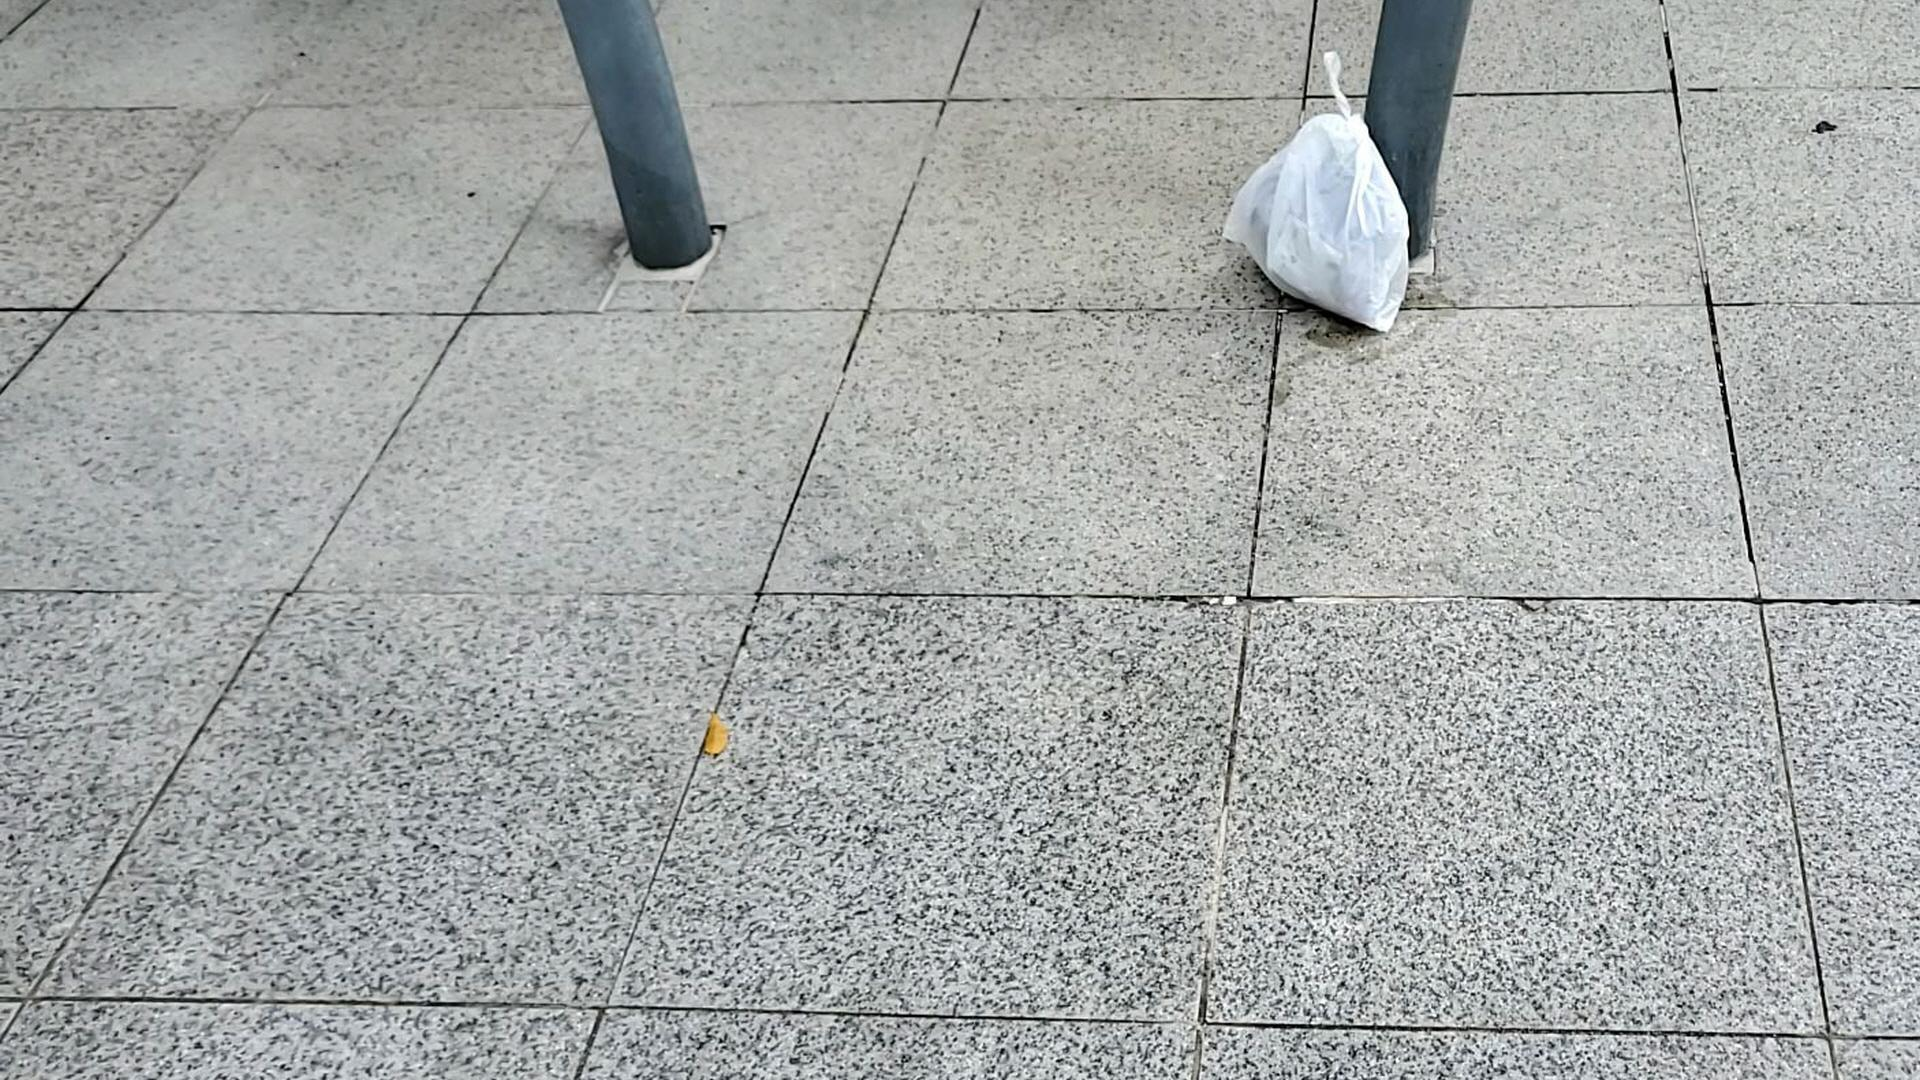white_bag: (1211, 30, 1424, 344)
